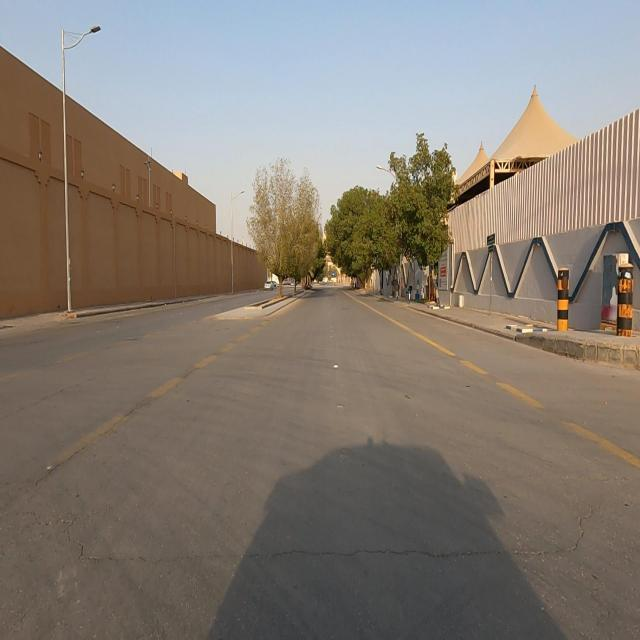debris: (525, 202, 603, 388), (587, 210, 640, 394)
